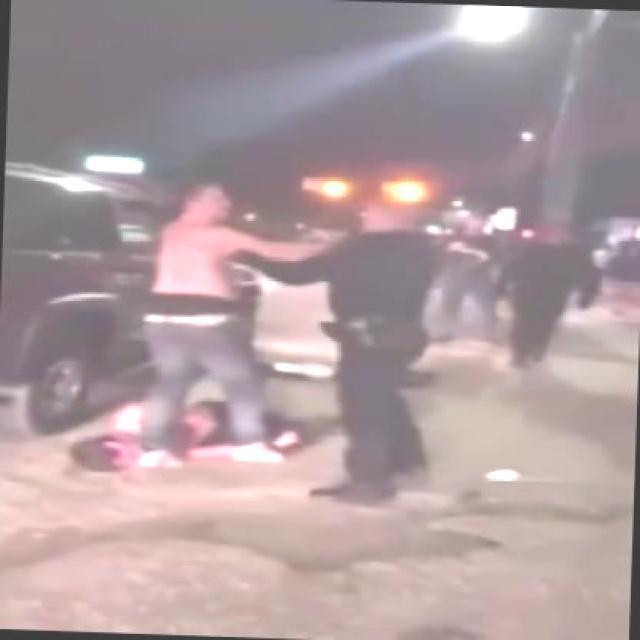fight: (134, 176, 448, 507)
